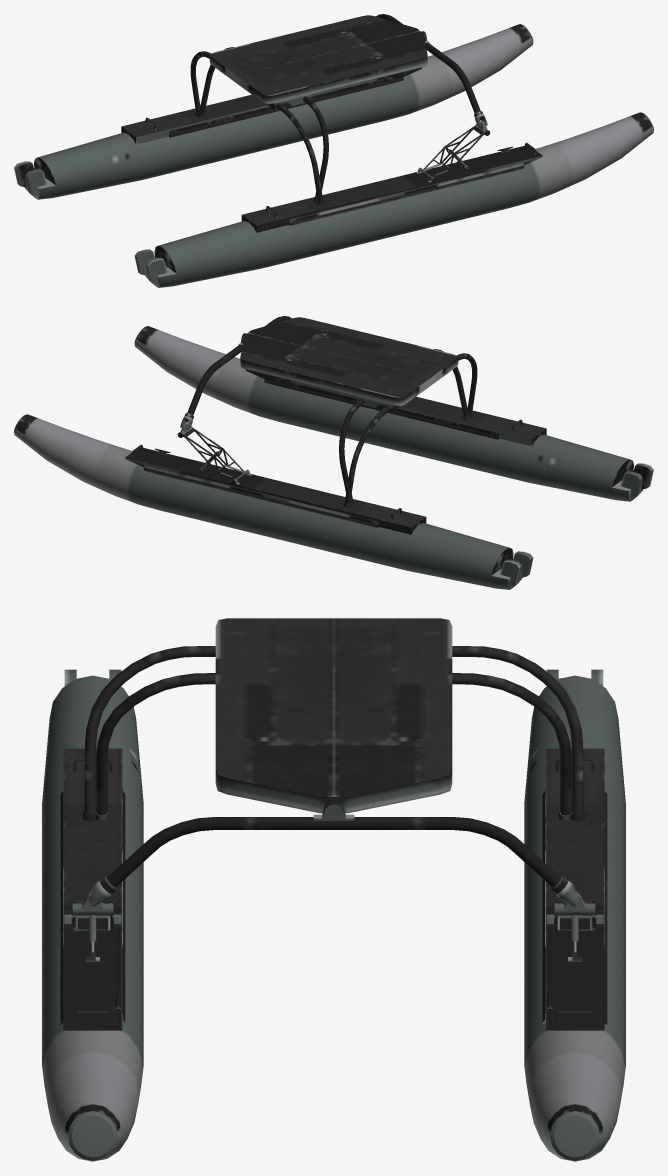
File: wamv_base.glb
3 views of the same model, one above another, from view 1: azimuth 30°, elevation 25°; view 2: azimuth 150°, elevation 25°; view 3: azimuth 270°, elevation 25° (orthographic). The views are drawn at different scales.
Visible parts, largest first — view 1: mesh0; view 2: mesh0; view 3: mesh0.
Boxes of the visible parts, x1=… form: mesh0: x1=14, y1=14, x2=653, y2=287; mesh0: x1=14, y1=316, x2=653, y2=589; mesh0: x1=42, y1=618, x2=625, y2=1161.
Bounding box in the file's own units: 5.01 × 1.29 × 2.49.
Materials: 1 (1 with a texture image).
